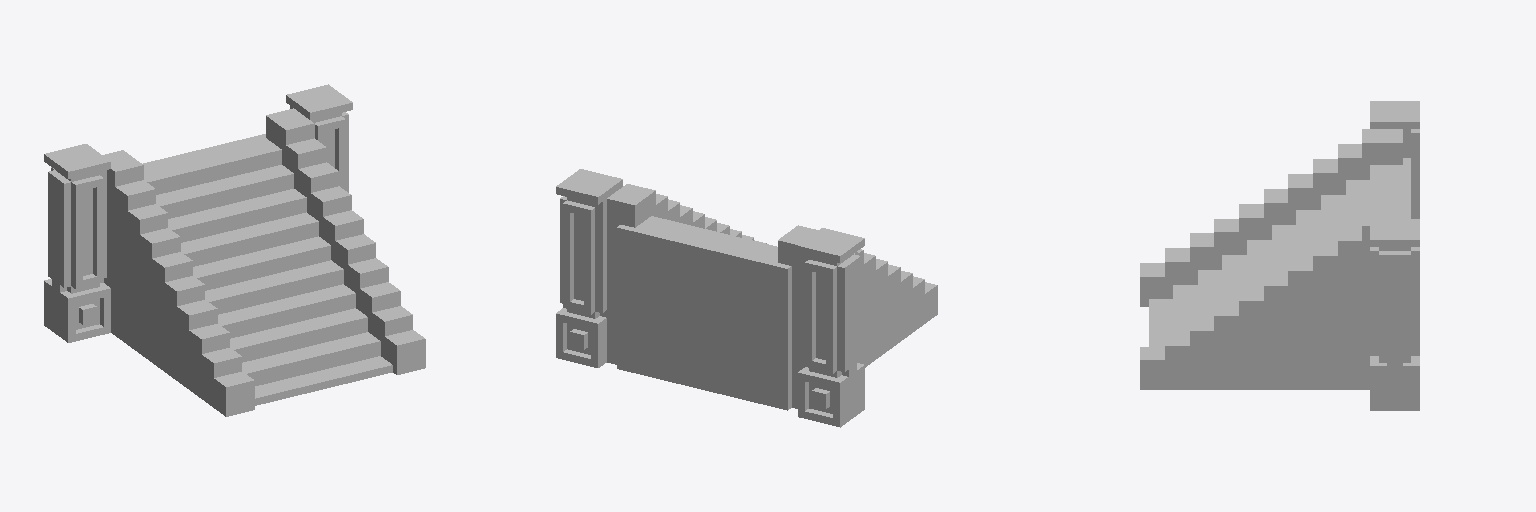
Rendered from ladder.obj.
3 views of the same model, side by side, from view 1: azimuth 30°, elevation 25°; view 2: azimuth 150°, elevation 25°; view 3: azimuth 270°, elevation 25° (orthographic).
Parts seen in each view (by area): view 1: object 1; view 2: object 1; view 3: object 1.
Boxes of the visible parts, x1=… form: object 1: x1=44, y1=84, x2=425, y2=416; object 1: x1=556, y1=169, x2=937, y2=427; object 1: x1=1140, y1=101, x2=1419, y2=410.
Size of the model in its own units: 4 by 2.3 by 3.4.